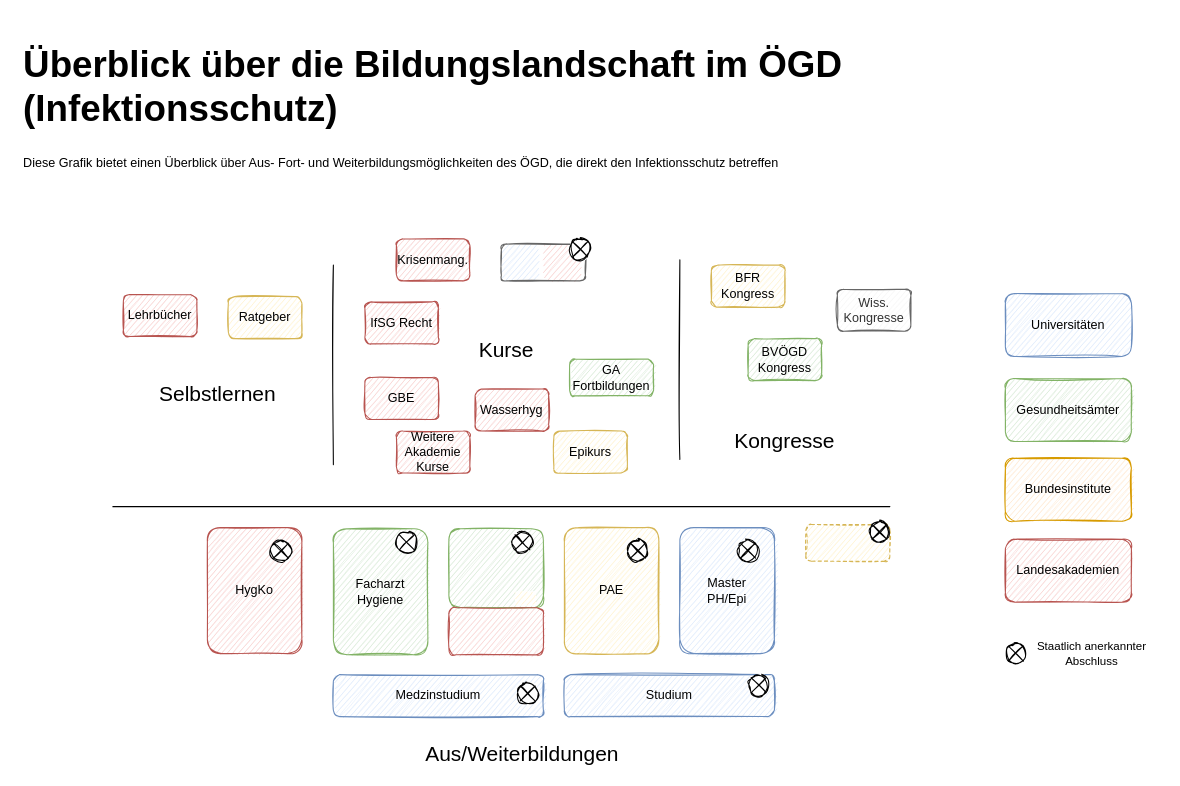
This 1180x786 diagram has some shape labels left out. The shapes that lost their labels are listed below. From the top down, each one's box as (x1, y1, x2, y2) in pixels, then its label:
(500, 243, 585, 281): Hygiene Beauftragte
(805, 523, 890, 561): Intermediate FETP ?
(448, 528, 543, 607): Facharzt ÖGD
(448, 606, 543, 655): WBK
